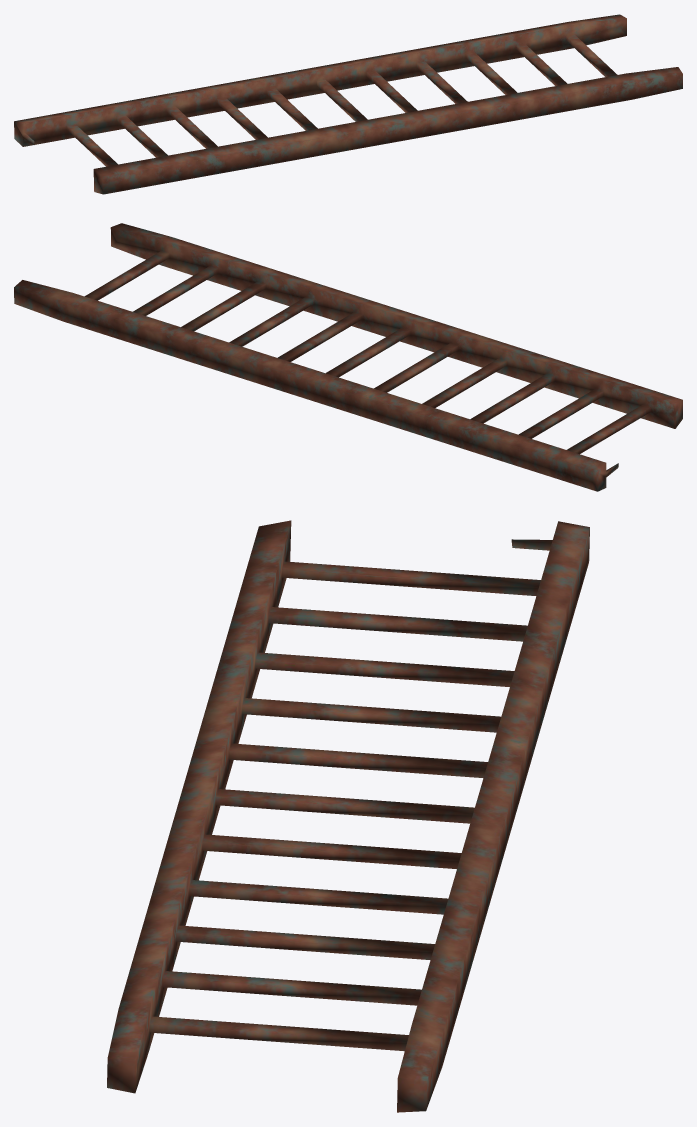
Rendered from control-tower_broken-ladder.glb.
The picture shows the model from 3 angles, top to bottom: view 1: azimuth 30°, elevation 25°; view 2: azimuth 150°, elevation 25°; view 3: azimuth 270°, elevation 25°; orthographic projection. The views are drawn at different scales.
Visible parts, largest first — view 1: Ladder.001_Baked; view 2: Ladder.001_Baked; view 3: Ladder.001_Baked.
Boxes of the visible parts, box(x1,y1,x2,y2) form: Ladder.001_Baked: box(14, 14, 682, 194); Ladder.001_Baked: box(14, 223, 682, 491); Ladder.001_Baked: box(107, 520, 589, 1112).
Size of the model in its own units: 7.01 by 0.3038 by 2.6.
1 material, 1 textured.
